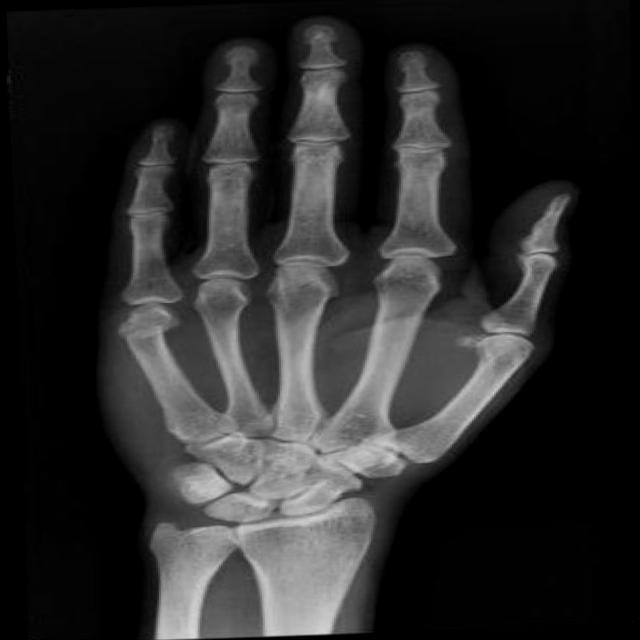Comminuted: (105, 300, 188, 357)
